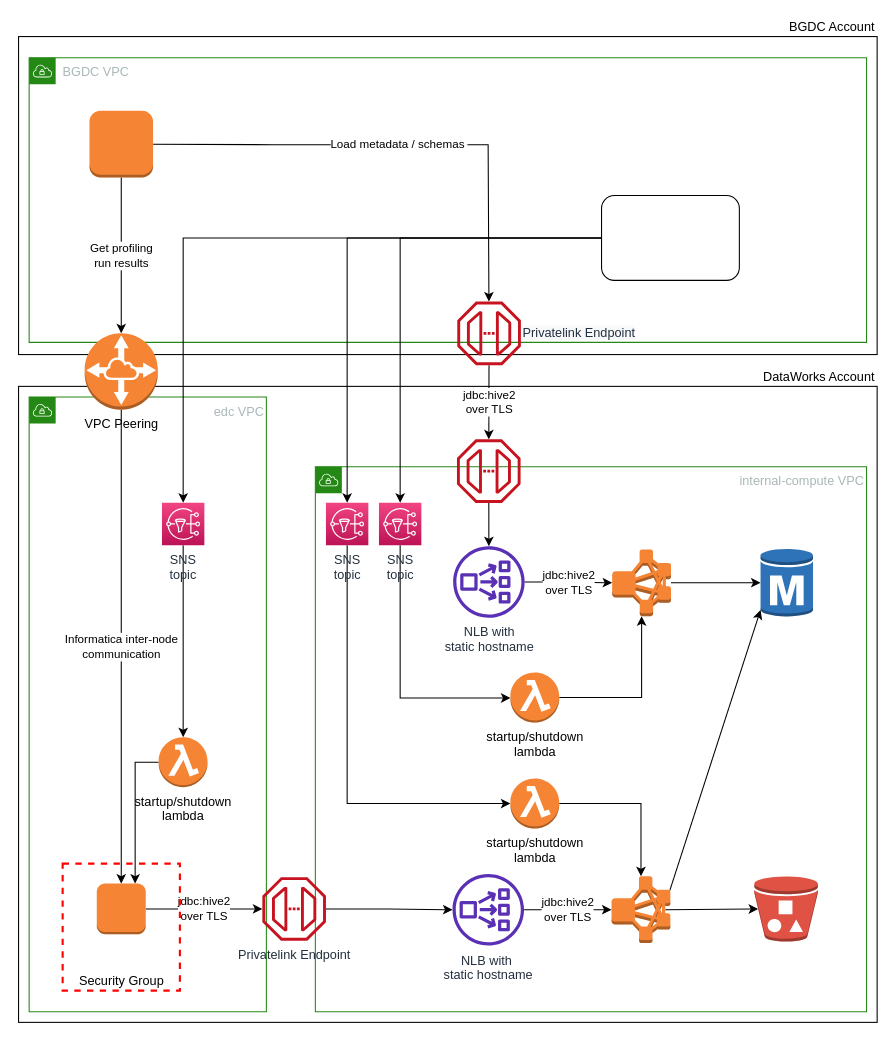
This 896x1041 diagram has some shape labels left out. Here are the shapes that lost their labels. From the top down, the centre of each, then its label:
the point at 120,144: EDC Domain node
the point at 669,237: startup/shutdown controller - CI job? (TBC)
the point at 488,470: Privatelink Endpoint config
the point at 641,582: EMR cluster metadata access only
the point at 786,582: Hive metadata store
the point at 121,908: EDC Profiling node
the point at 640,909: EMR cluster with access to data (read-only)
the point at 785,908: Data store bucket
